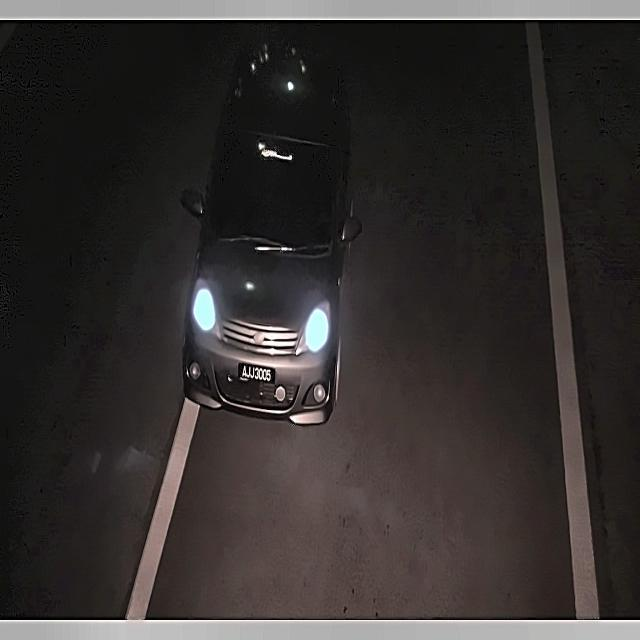car: (236, 358, 277, 391)
